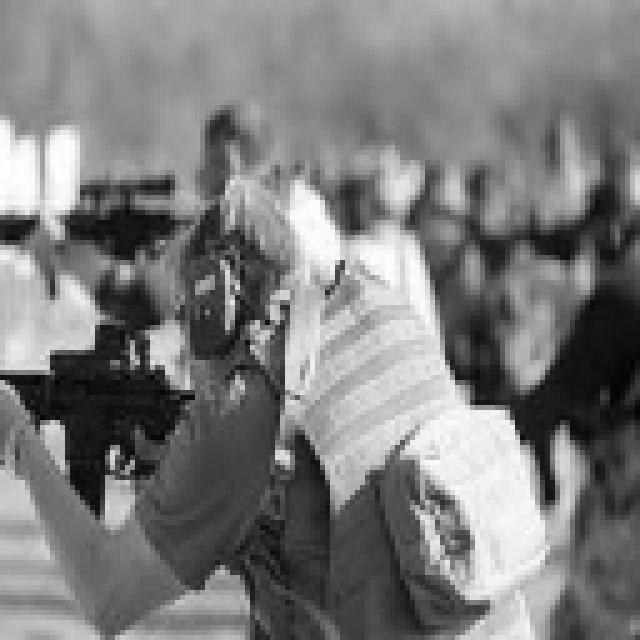Rifle: (7, 280, 218, 547), (0, 135, 211, 301)
